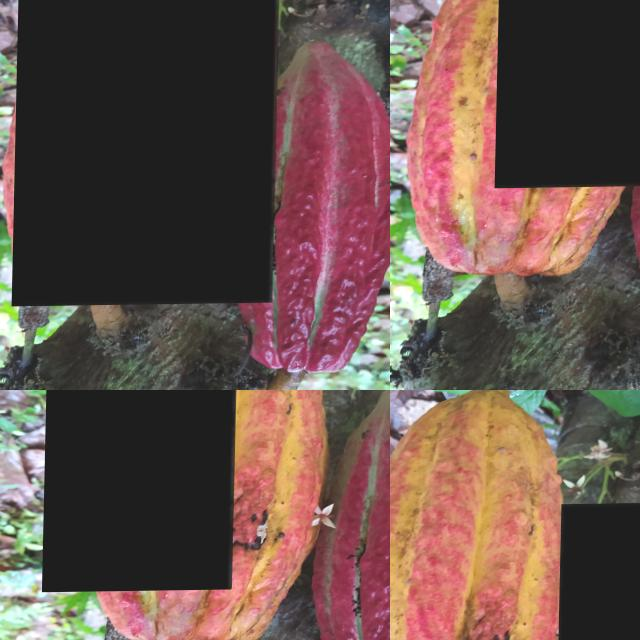Fitoftora: (228, 390, 367, 609)
Monilia: (496, 0, 640, 188), (591, 169, 640, 246), (78, 462, 111, 529), (225, 550, 248, 611)
Sana: (14, 0, 280, 306), (390, 390, 574, 640), (43, 390, 240, 592), (578, 96, 640, 189)
